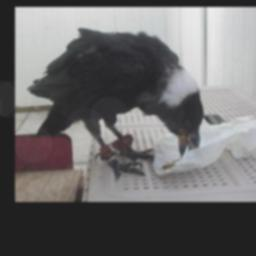Crow: (26, 27, 207, 181)
